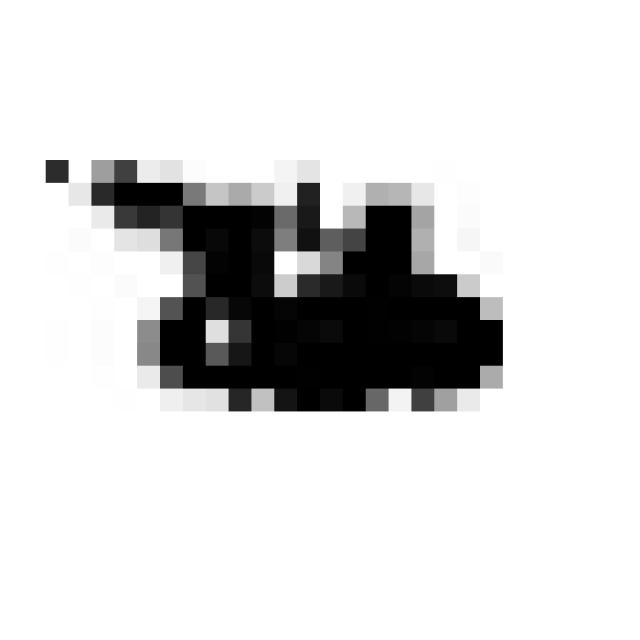0 -zero-: (18, 124, 526, 434)
